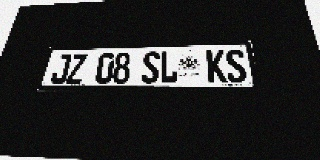0: (94, 53, 115, 84)
8: (112, 52, 132, 84)
J: (49, 54, 72, 84)
K: (206, 50, 227, 83)
L: (159, 51, 177, 83)
S: (225, 49, 248, 83), (141, 51, 160, 83)
Z: (65, 53, 87, 84)
